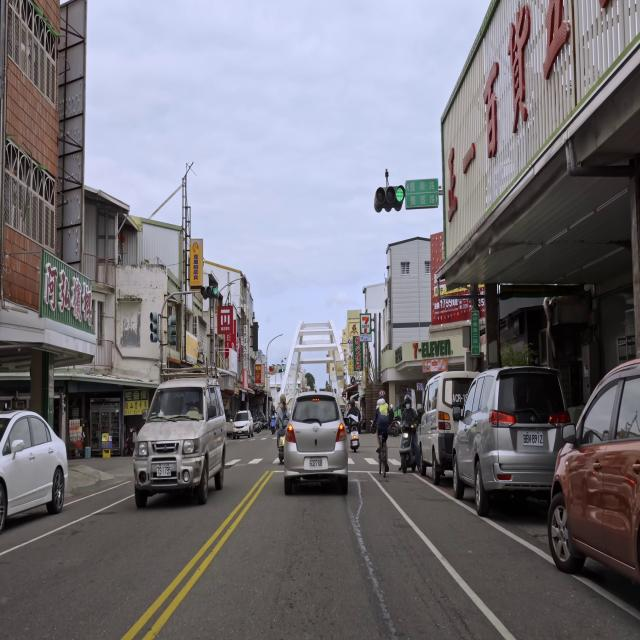green light: (374, 186, 404, 206), (200, 286, 219, 297)
